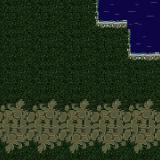Interaction: (85, 0, 117, 31), (117, 48, 160, 66), (116, 16, 136, 48)
Slow: (130, 0, 160, 51), (100, 0, 132, 20)
